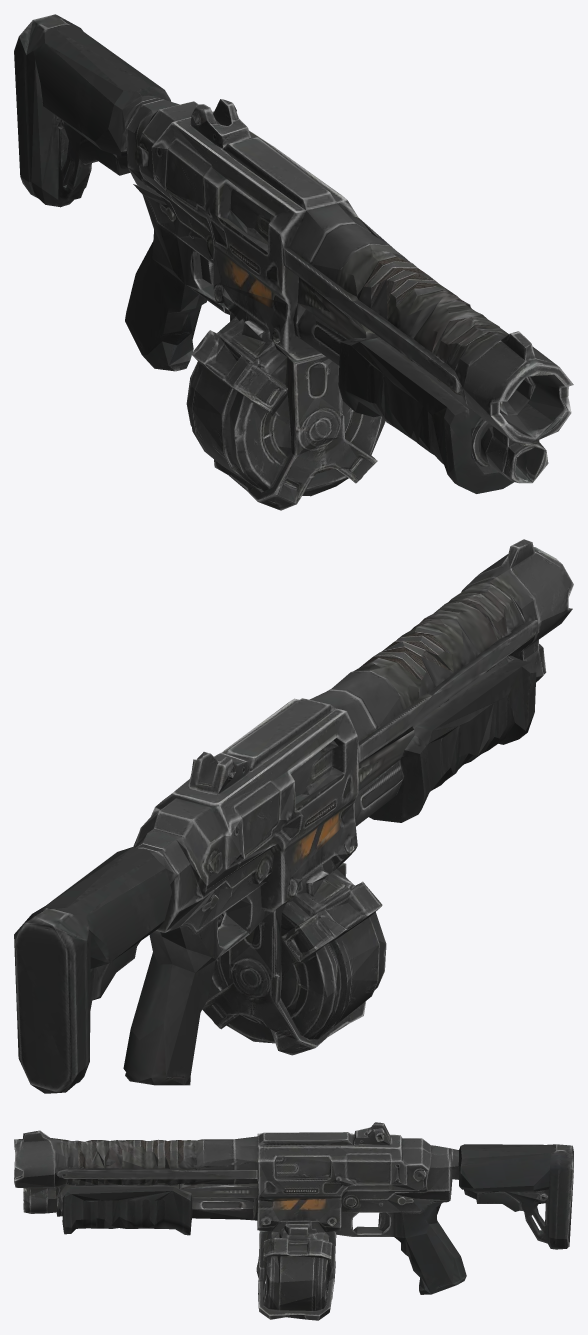
Rendered from shotgun.glb.
3 renders of one model, top to bottom at view 1: azimuth 30°, elevation 25°; view 2: azimuth 150°, elevation 25°; view 3: azimuth 270°, elevation 25°, orthographic. The views are drawn at different scales.
Visible parts, largest first — view 1: Mesh_0; view 2: Mesh_0; view 3: Mesh_0.
Boxes of the visible parts, <box> form: Mesh_0: <box>14,14,573,510</box>; Mesh_0: <box>14,539,573,1093</box>; Mesh_0: <box>14,1122,573,1320</box>.
Size of the model in its own units: 0.1681 by 0.3304 by 0.9.
1 material, 1 textured.
